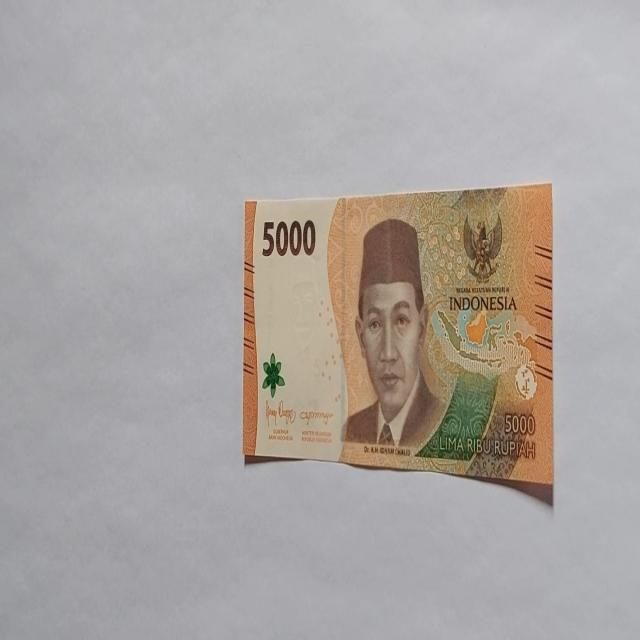lima ribu rupiah: (242, 182, 554, 504), (339, 217, 447, 452)
